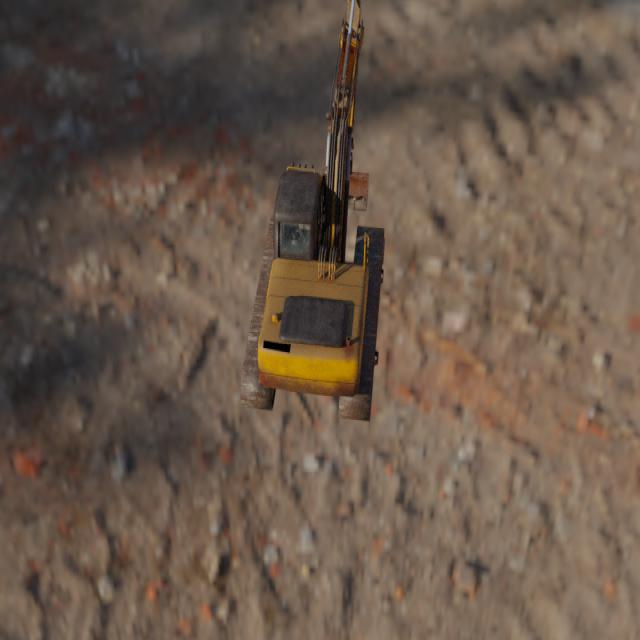excavator: (239, 0, 385, 423)
